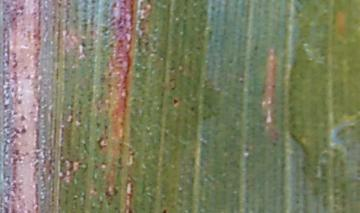tarspot: (96, 134, 107, 150), (168, 77, 177, 91), (10, 51, 17, 69), (94, 120, 102, 133), (110, 185, 120, 195), (242, 144, 251, 154), (170, 98, 179, 107), (19, 125, 27, 135), (56, 1, 64, 9), (252, 43, 259, 52), (103, 189, 110, 198), (19, 114, 26, 122), (127, 205, 134, 213), (270, 141, 278, 148), (65, 1, 73, 7), (106, 200, 112, 208), (194, 45, 202, 51), (270, 83, 277, 89), (237, 78, 244, 84), (103, 124, 109, 131), (107, 70, 113, 77), (161, 207, 168, 213), (188, 105, 194, 112), (210, 4, 216, 11), (80, 40, 86, 47)
